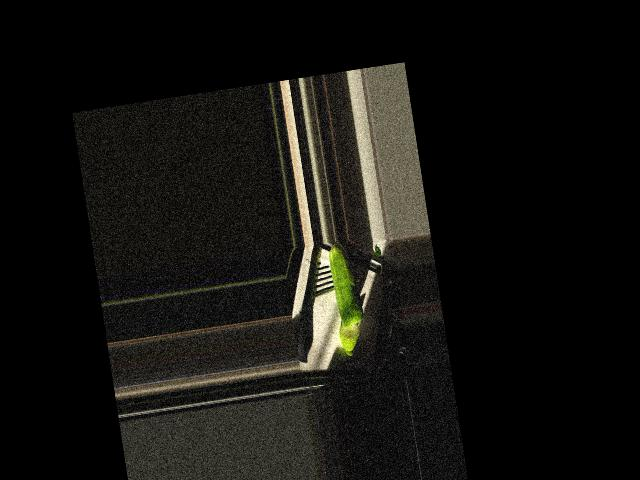cucumber: (326, 241, 364, 328)
